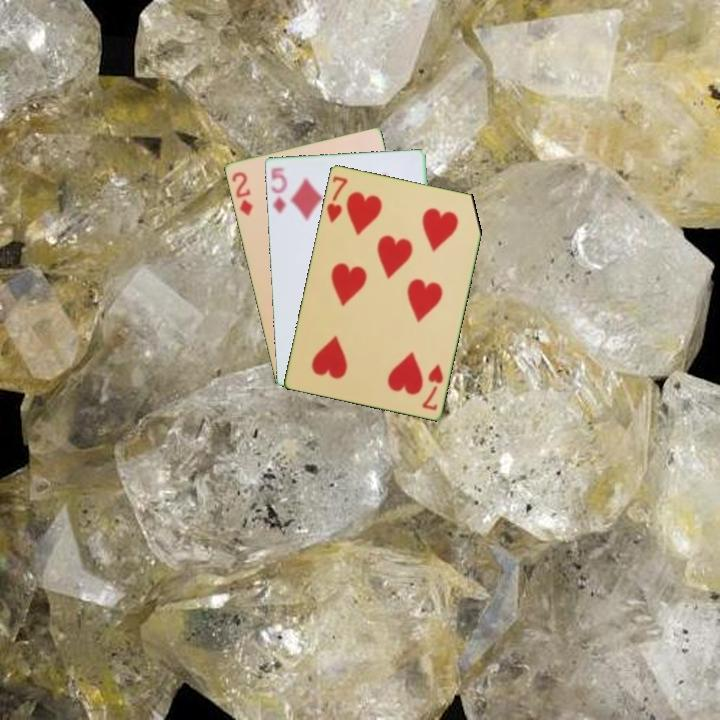2d: (228, 168, 256, 218)
5d: (267, 163, 290, 216)
7h: (418, 360, 446, 413), (323, 172, 350, 225)
